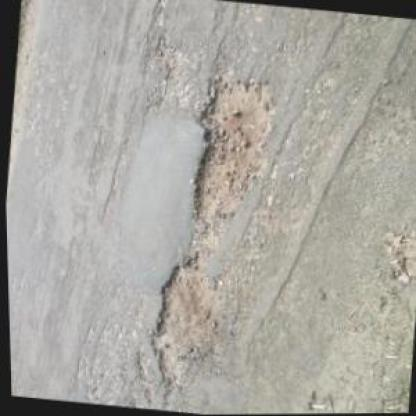pothole: (181, 68, 282, 243), (139, 248, 226, 395)
